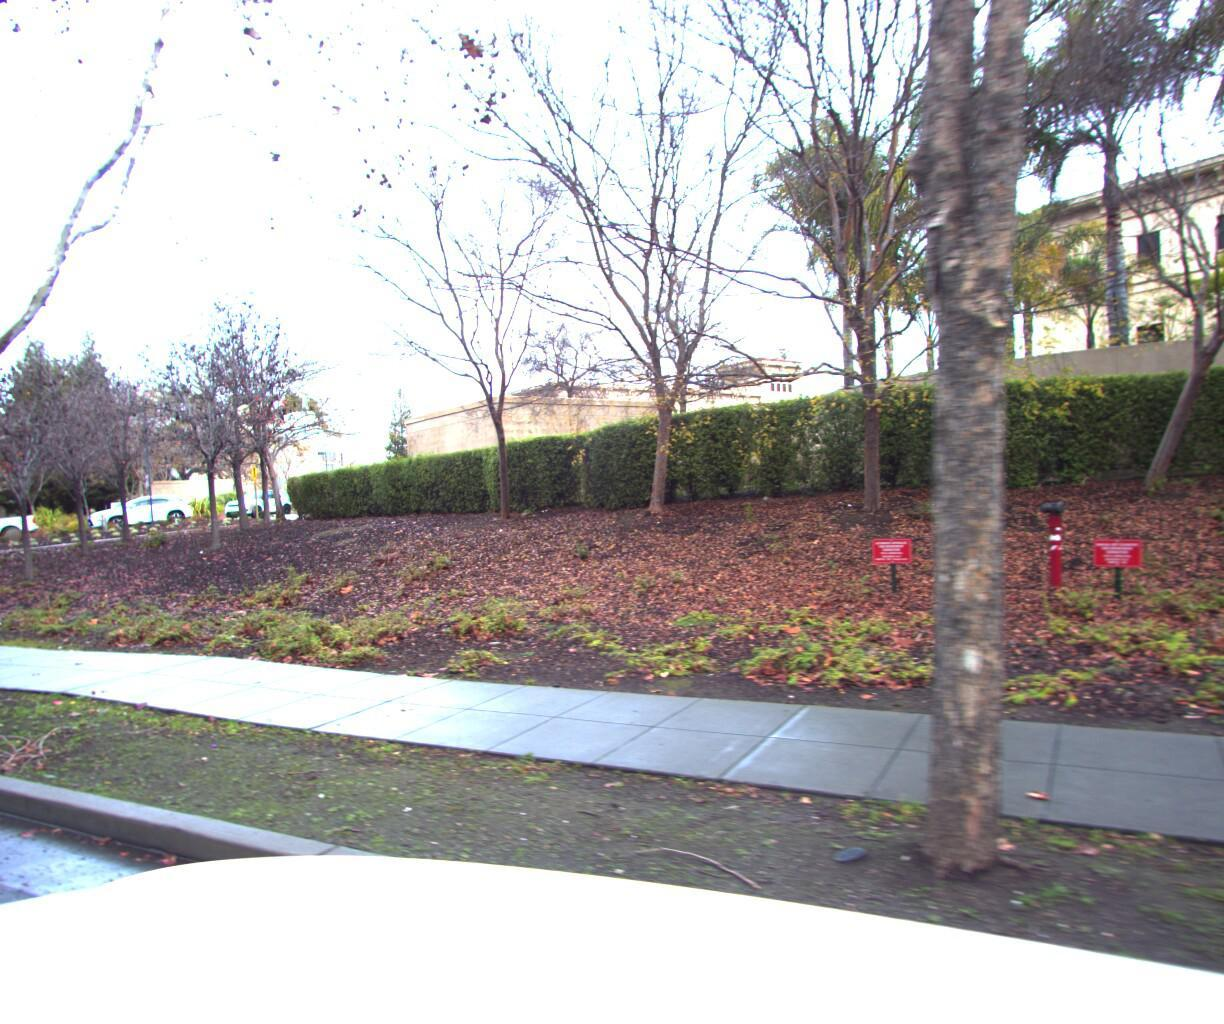car: (86, 496, 202, 532), (219, 491, 303, 521), (0, 507, 54, 553)
